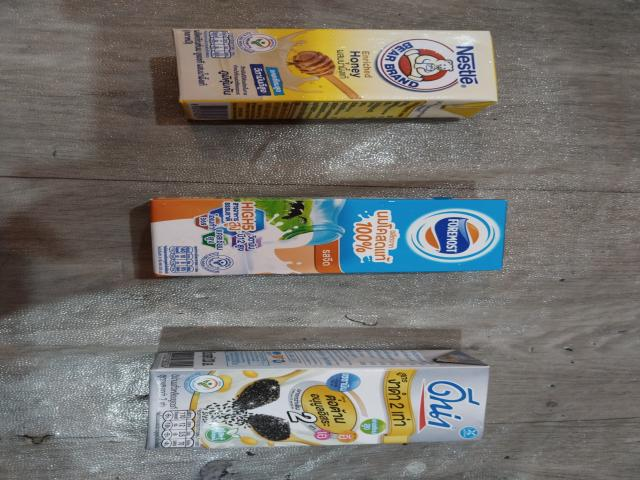drink_box: (132, 346, 492, 447), (162, 19, 498, 123), (128, 194, 523, 282)
